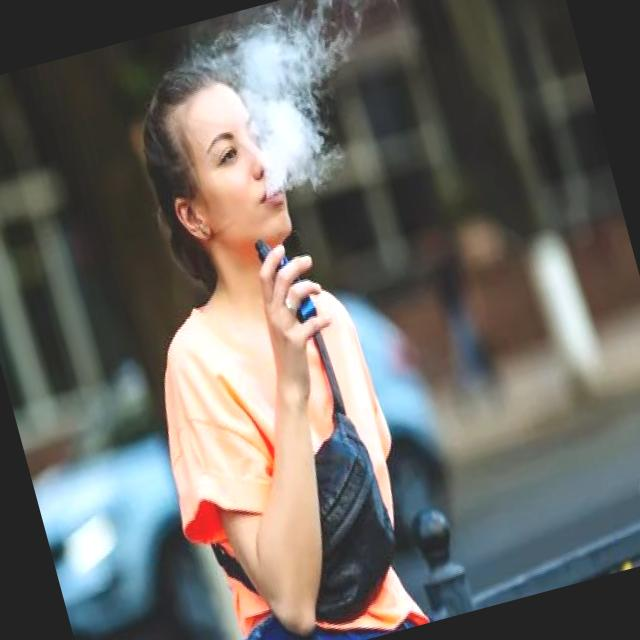smoke: (248, 222, 320, 336)
